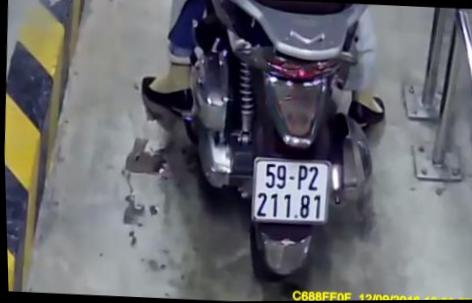LP: (247, 153, 331, 227)
